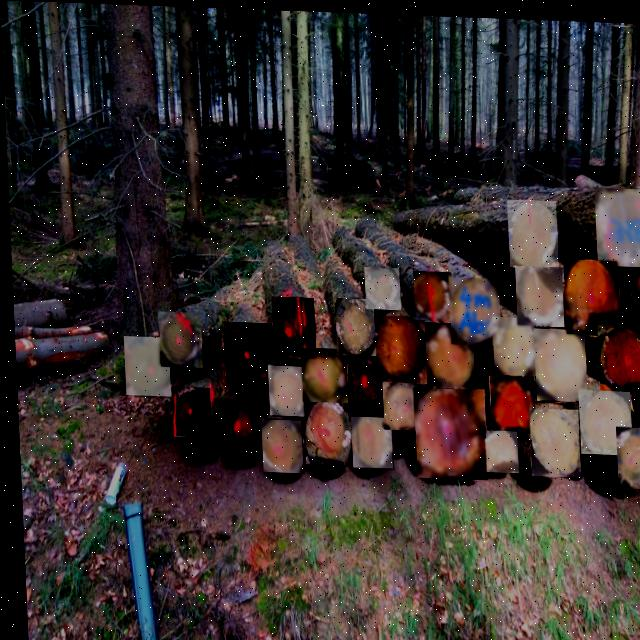wood-log: (412, 385, 481, 475), (563, 256, 616, 330), (532, 325, 583, 396), (594, 184, 640, 262), (526, 404, 576, 472), (370, 314, 423, 378), (576, 386, 628, 450), (447, 275, 497, 341), (507, 196, 555, 264), (222, 321, 270, 385), (423, 322, 471, 384), (596, 323, 640, 389), (302, 399, 348, 462), (513, 263, 561, 322), (122, 337, 167, 394), (488, 372, 532, 429), (490, 314, 532, 372), (270, 296, 312, 353), (299, 348, 344, 400), (157, 311, 198, 366), (333, 296, 372, 353), (259, 418, 298, 471), (212, 398, 253, 448), (380, 380, 423, 427), (345, 352, 383, 404), (349, 415, 388, 465), (266, 364, 303, 414), (169, 387, 208, 434), (412, 269, 448, 317), (613, 423, 640, 484), (363, 265, 397, 307), (482, 427, 515, 469), (629, 268, 640, 314)
